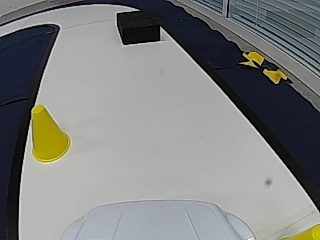block: (116, 10, 160, 45)
cone: (28, 106, 71, 162)
